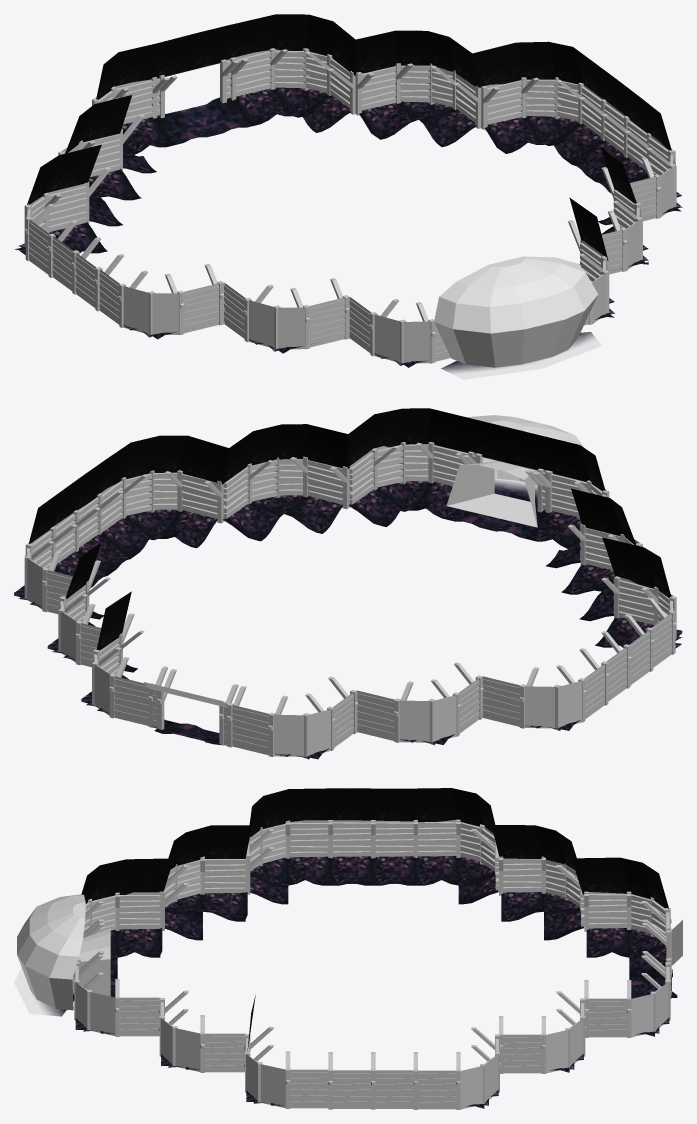
File: roomBoss.fbx
3 renders of one model, top to bottom at view 1: azimuth 30°, elevation 25°; view 2: azimuth 150°, elevation 25°; view 3: azimuth 270°, elevation 25°, orthographic. The views are drawn at different scales.
Visible parts, largest first — view 1: ceiling, White, WallTurn.009, WallTurn.007, WallTurn.004, WallTurn.001, WallTurn.006, WallTurn.005, WallTurn.011, WallDiverge.001, WallTurn.010, WallTurn.002 (+8 smaller); view 2: ceiling, WallTurn.008, WallTurn.003, WallTurn.012, WallTurn.005, WallTurn.002, WallTurn.010, WallTurn.006, WallTurn.009, ExitLight, WallTurn.007, WallTurn.011 (+10 smaller); view 3: ceiling, White, WallTurn.005, WallTurn.006, WallTurn.001, WallTurn.002, WallTurn.010, WallTurn.011, WallTurn.007, WallTurn.009, WallTurn.004, WallTurn.003 (+9 smaller).
Boxes of the visible parts, x1,y1,x2,y2 form: ceiling: [27, 14, 671, 260]; White: [434, 256, 598, 367]; WallTurn.009: [230, 48, 355, 132]; WallTurn.007: [481, 77, 606, 161]; WallTurn.004: [355, 63, 481, 147]; WallTurn.001: [224, 278, 349, 353]; WallTurn.006: [99, 264, 223, 339]; WallTurn.005: [15, 183, 107, 277]; WallTurn.011: [349, 297, 450, 367]; WallDiverge.001: [151, 59, 254, 144]; WallTurn.010: [92, 79, 174, 173]; WallTurn.002: [58, 134, 141, 226]; ceiling: [28, 408, 671, 650]; WallTurn.008: [99, 470, 223, 555]; WallTurn.003: [223, 456, 349, 541]; WallTurn.012: [348, 442, 473, 527]; WallTurn.005: [483, 648, 608, 730]; WallTurn.002: [357, 662, 483, 745]; WallTurn.010: [232, 676, 357, 759]; WallTurn.006: [595, 576, 682, 667]; WallTurn.009: [81, 630, 171, 727]; ExitLight: [446, 461, 537, 527]; WallTurn.007: [14, 524, 103, 619]; WallTurn.011: [528, 470, 609, 568]; ceiling: [81, 788, 668, 1052]; White: [17, 894, 85, 1010]; WallTurn.005: [413, 819, 498, 904]; WallTurn.006: [246, 820, 332, 904]; WallTurn.001: [160, 856, 247, 940]; WallTurn.002: [499, 856, 584, 940]; WallTurn.010: [584, 891, 671, 976]; WallTurn.011: [83, 892, 162, 976]; WallTurn.007: [413, 1027, 500, 1109]; WallTurn.009: [584, 955, 671, 1037]; WallTurn.004: [499, 991, 586, 1073]; WallTurn.003: [158, 990, 245, 1072].
Size of the model in its own units: 2812 by 437 by 3138.
